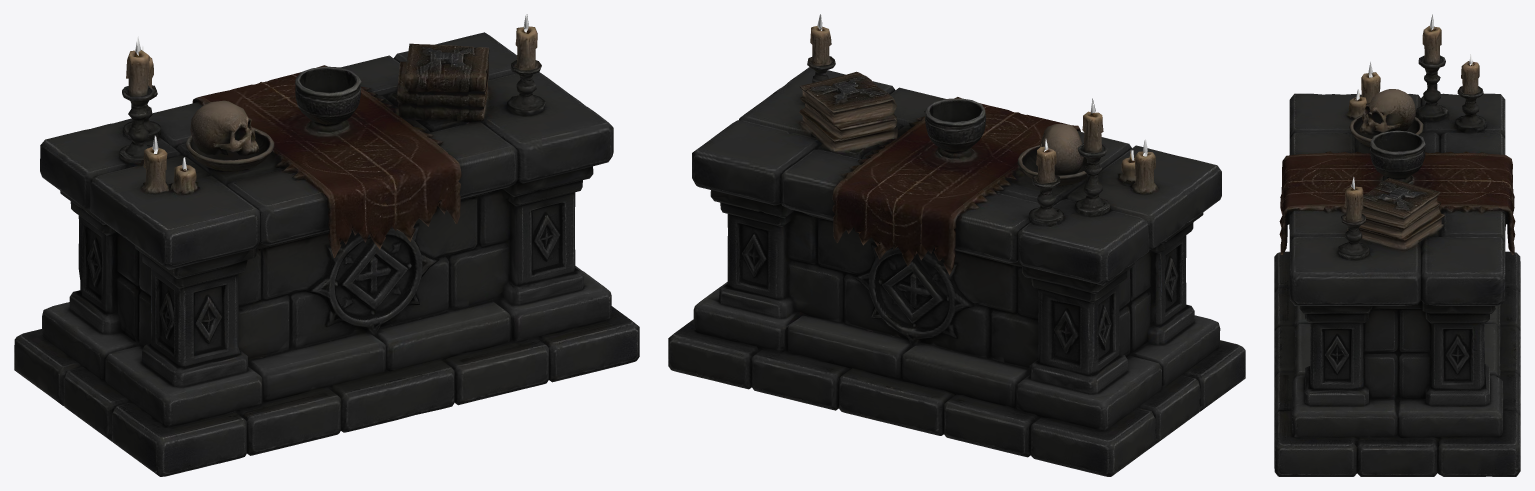
File: Altar.fbx
3 renders of one model, left to right at view 1: azimuth 30°, elevation 25°; view 2: azimuth 150°, elevation 25°; view 3: azimuth 270°, elevation 25°, orthographic. The views are drawn at different scales.
Parts seen in each view (by area): view 1: Alter; view 2: Alter; view 3: Alter.
Boxes of the visible parts, bbox=[...] form: Alter: bbox=[14, 14, 639, 476]; Alter: bbox=[668, 14, 1245, 476]; Alter: bbox=[1274, 14, 1520, 476].
Bounding box in the file's own units: 294 × 208 × 156.
Materials: 2 (1 with a texture image).
